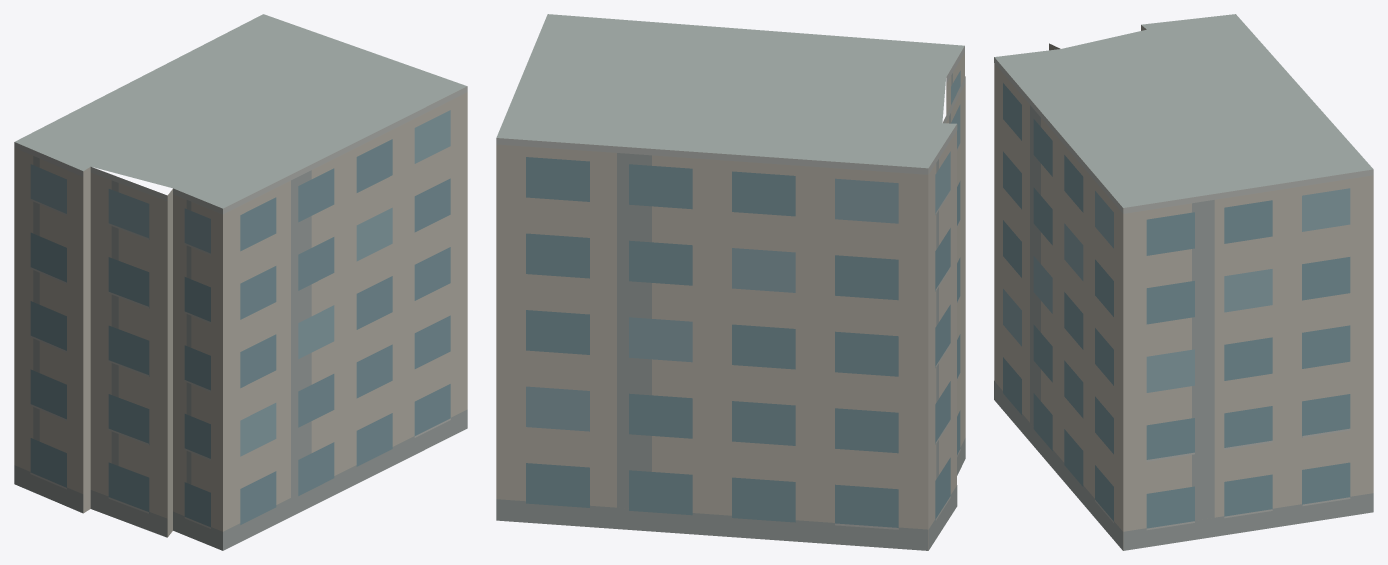
The model's file is survey-upis-32612202.glb.
3 views of the same model, side by side, from view 1: azimuth 30°, elevation 25°; view 2: azimuth 150°, elevation 25°; view 3: azimuth 270°, elevation 25° (orthographic). The views are drawn at different scales.
Parts seen in each view (by area): view 1: survey-upis-32612202.tmp; view 2: survey-upis-32612202.tmp; view 3: survey-upis-32612202.tmp.
Part boxes in pixels (box(x1,y1,x2,y2)): survey-upis-32612202.tmp: box(14, 14, 467, 550); survey-upis-32612202.tmp: box(496, 14, 965, 550); survey-upis-32612202.tmp: box(994, 14, 1373, 550).
Size of the model in its own units: 17.37 by 14.3 by 14.35.
